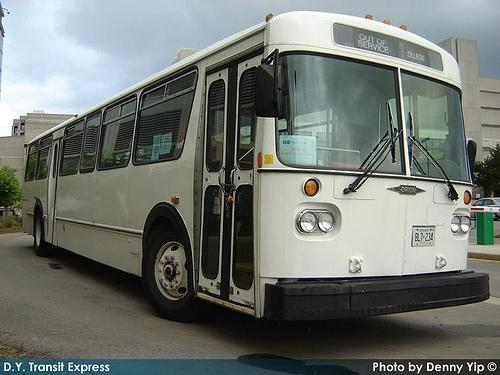bus: (19, 13, 490, 322)
car: (470, 198, 500, 220)
